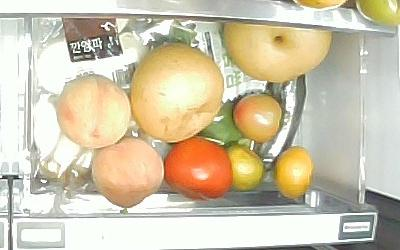peach: (55, 71, 132, 151), (91, 134, 166, 209)
pear: (126, 40, 227, 145), (221, 16, 334, 84)
tangerine: (219, 143, 267, 194), (272, 144, 315, 200)
tomato: (163, 135, 234, 202), (232, 91, 284, 144)
